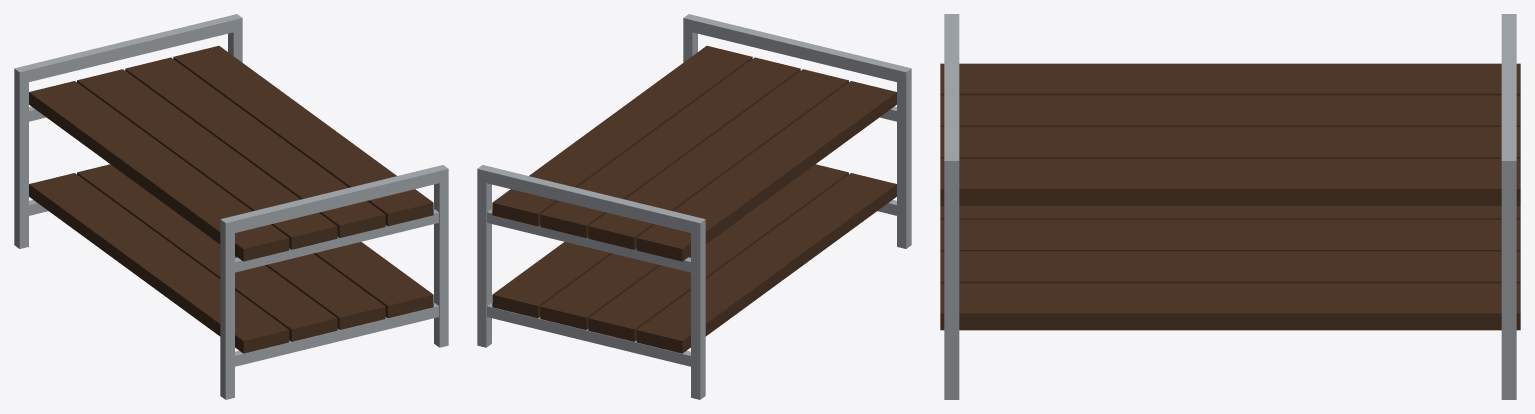
The model's file is Mesinha.fbx.
3 renders of one model, left to right at view 1: azimuth 30°, elevation 25°; view 2: azimuth 150°, elevation 25°; view 3: azimuth 270°, elevation 25°, orthographic. The views are drawn at different scales.
Visible parts, largest first — view 1: Mesinha; view 2: Mesinha; view 3: Mesinha.
Boxes of the visible parts, box(x1,y1,x2,y2) form: Mesinha: box(14, 14, 448, 399); Mesinha: box(477, 14, 911, 399); Mesinha: box(940, 14, 1520, 399).
Bounding box in the file's own units: 57.91 × 43.86 × 96.53.
